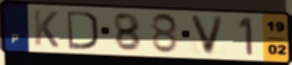1: (237, 16, 257, 58)
8: (111, 12, 143, 53), (150, 12, 180, 55)
D: (65, 9, 101, 51)
K: (31, 8, 61, 49)
V: (187, 13, 226, 57)
